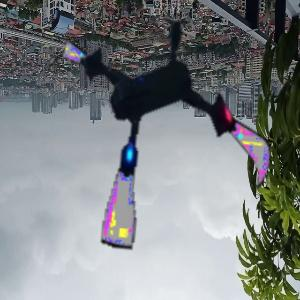drone: (38, 4, 291, 257)
